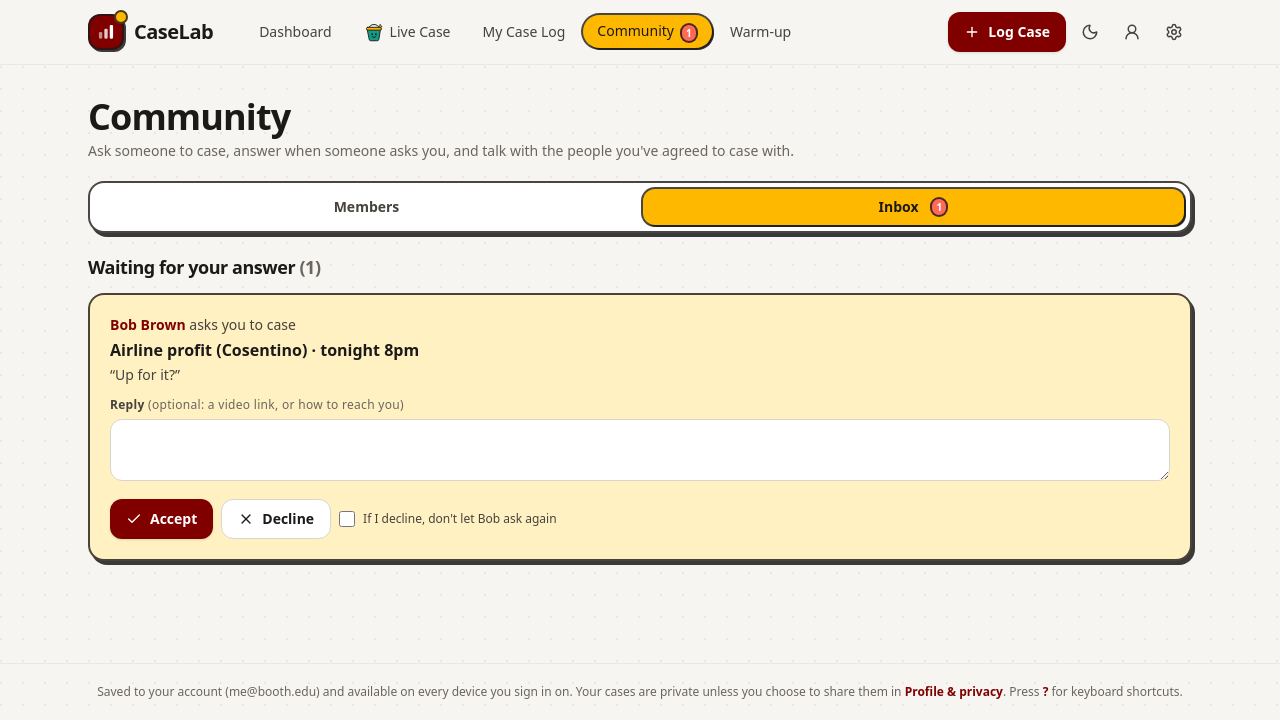
Test: starting a conversation › opens when you accept a request, and takes you to it from the request
Check: the heading "Community" is shown, box x1=88 y1=92 x2=290 y2=141
Type "Zoom: example.com/room" into the text box labelled "Reply (optional: a video link, or how to reach you)".
click(640, 450); type("Zoom: example.com/room")  # box x1=110 y1=419 x2=1170 y2=481
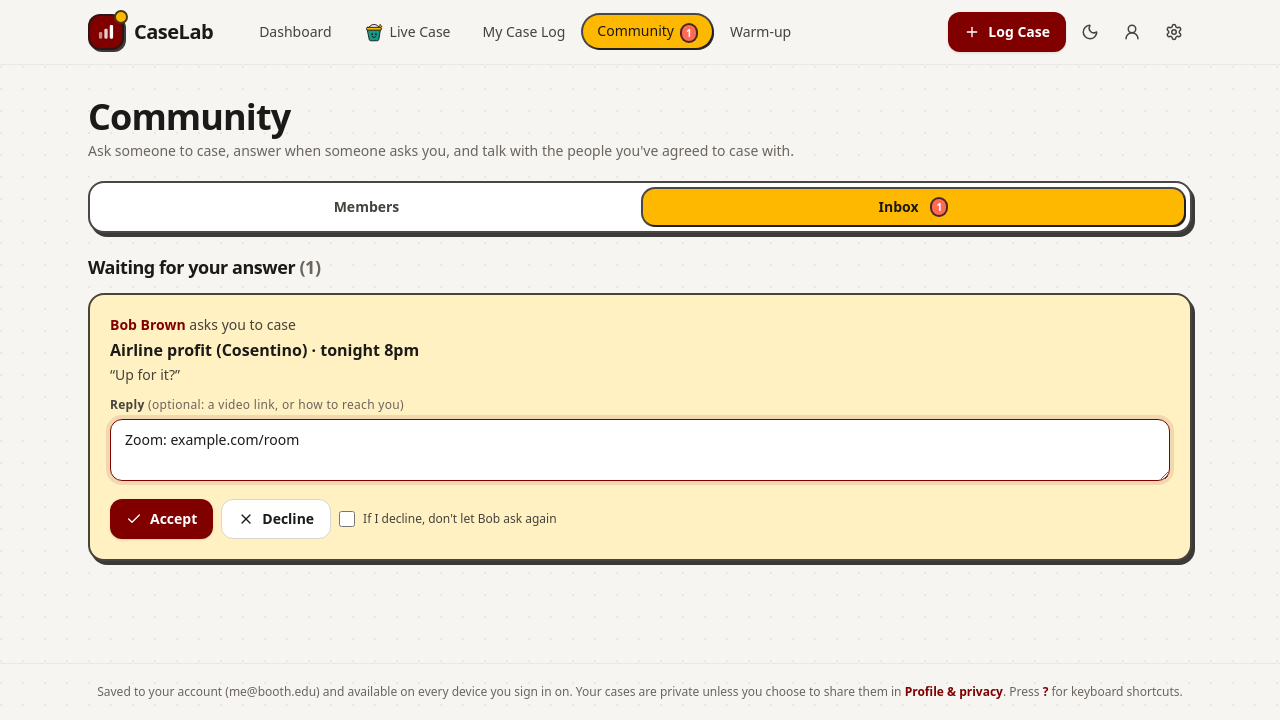
Click the button "Accept".
click(162, 519)  # box x1=110 y1=499 x2=213 y2=539
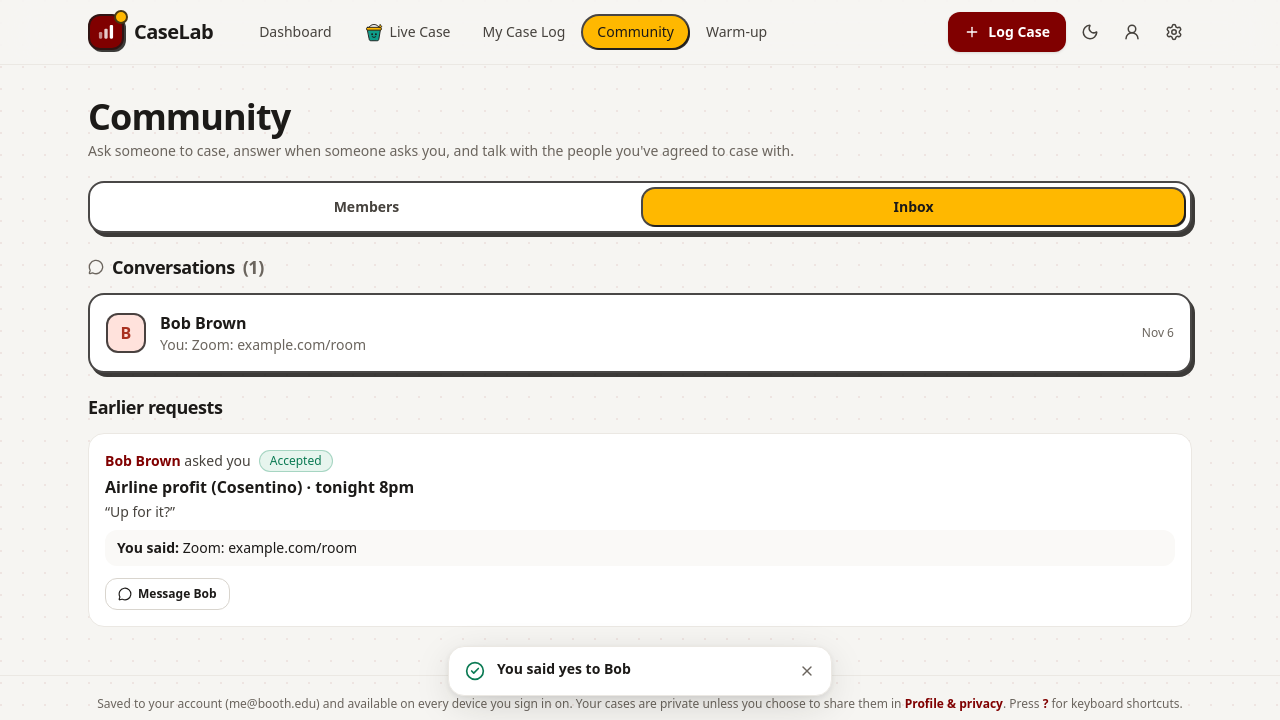
Click the link "Message Bob".
click(167, 594)  # box x1=105 y1=578 x2=230 y2=610
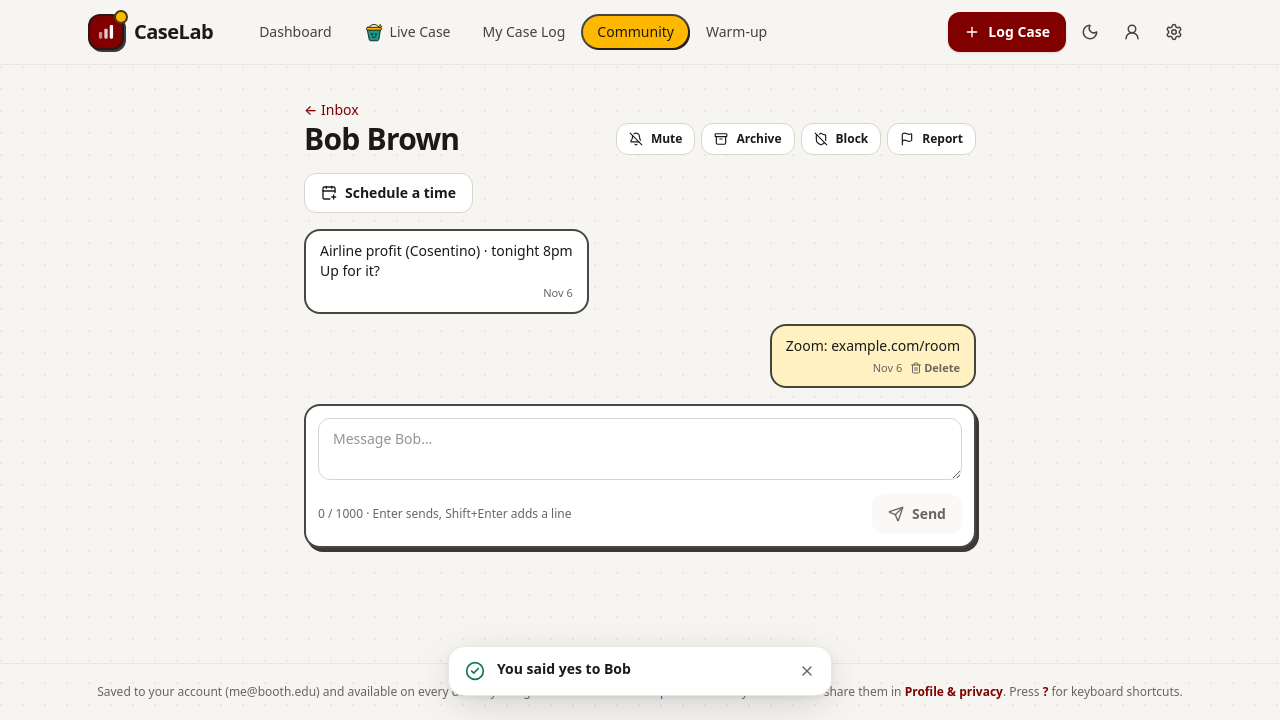
Check: the heading "Bob Brown" is shown, box x1=304 y1=121 x2=459 y2=157
Check: the list item "Airline profit (Cosentino) · tonight 8pm Up for it? Nov 6" is shown, box x1=304 y1=229 x2=589 y2=314
